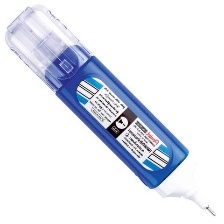correction_fluid: (2, 2, 217, 220)
